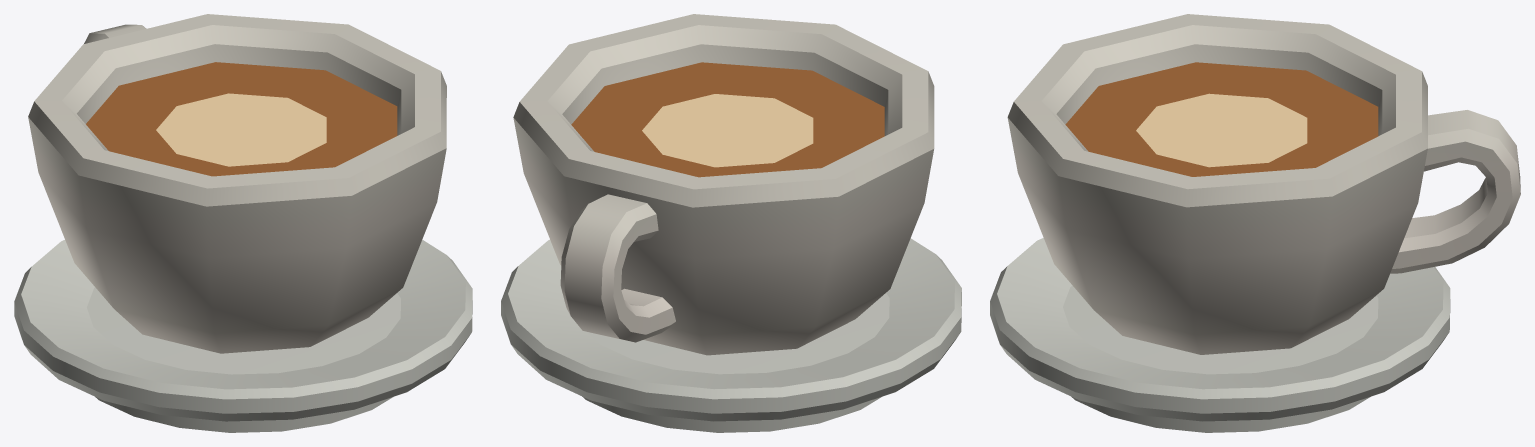
File: CoffyCup_P.glb
The picture shows the model from 3 angles, left to right: view 1: azimuth 30°, elevation 25°; view 2: azimuth 150°, elevation 25°; view 3: azimuth 270°, elevation 25°; orthographic projection.
Parts seen in each view (by area): view 1: CoffeCup_Full, CoffyCup_P; view 2: CoffeCup_Full, CoffyCup_P; view 3: CoffeCup_Full, CoffyCup_P.
Part boxes in pixels (x1,y1,x2,y2): CoffeCup_Full: (28, 14, 446, 353); CoffyCup_P: (14, 240, 472, 432); CoffeCup_Full: (513, 14, 934, 355); CoffyCup_P: (501, 238, 961, 432); CoffeCup_Full: (1007, 14, 1520, 354); CoffyCup_P: (990, 238, 1450, 432).
Size of the model in its own units: 0.1662 by 0.1026 by 0.1912.
Materials: 1 (1 with a texture image).
